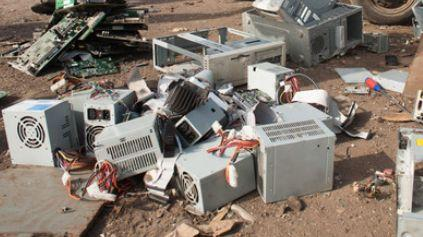electronic: (249, 103, 336, 203), (244, 1, 364, 69), (171, 134, 256, 214), (2, 98, 77, 168), (92, 114, 166, 181), (175, 97, 230, 147), (290, 89, 347, 131), (248, 62, 294, 101), (281, 1, 338, 27), (52, 75, 115, 98), (165, 81, 206, 116), (64, 54, 119, 78), (49, 12, 87, 44), (93, 8, 149, 29)
